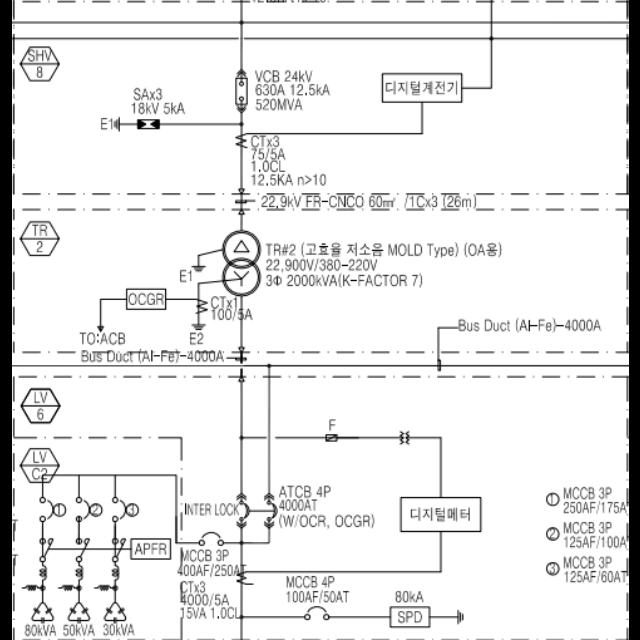CB: (236, 78, 247, 104)
CT: (195, 298, 207, 314), (234, 134, 246, 148), (236, 571, 246, 585)
GND: (112, 116, 120, 132), (190, 265, 206, 273), (456, 609, 464, 625), (190, 324, 206, 331)
LA: (136, 120, 158, 130)
MCCB: (74, 497, 90, 523), (111, 497, 125, 523), (198, 532, 222, 546), (38, 498, 52, 522), (304, 606, 328, 620)
PF2: (324, 434, 336, 442)
PT: (399, 431, 409, 445)
SC: (31, 602, 53, 624), (103, 602, 125, 624), (67, 602, 89, 622)
SR: (110, 565, 120, 581), (38, 565, 46, 581), (76, 566, 82, 580)
TR: (220, 231, 260, 297)
